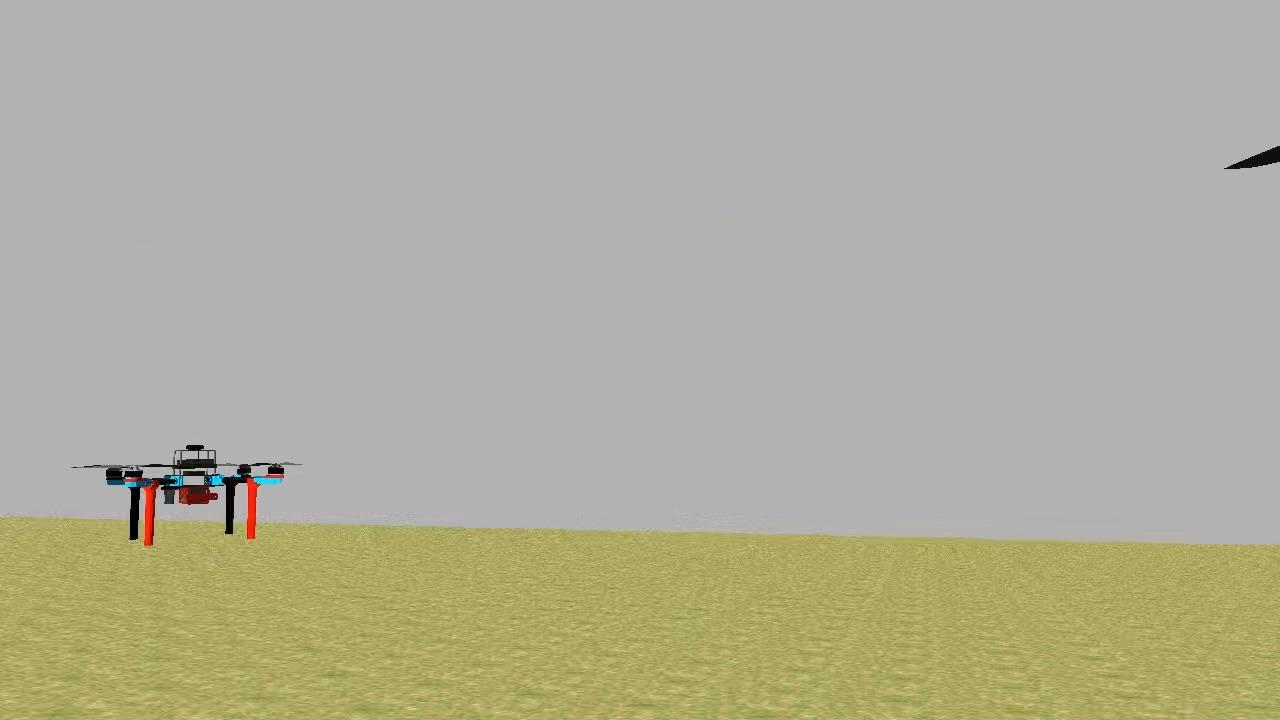UAV: (102, 430, 294, 553)
